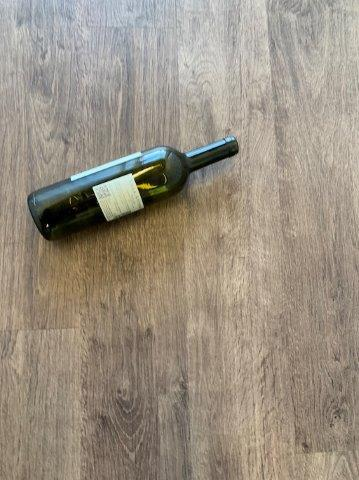botolkaca: (28, 135, 238, 240)
